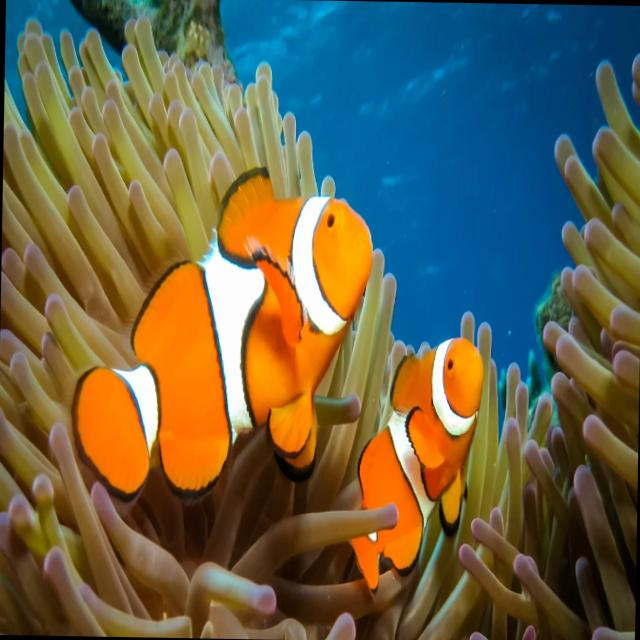ClownFish: (66, 166, 373, 496), (354, 324, 481, 594)
